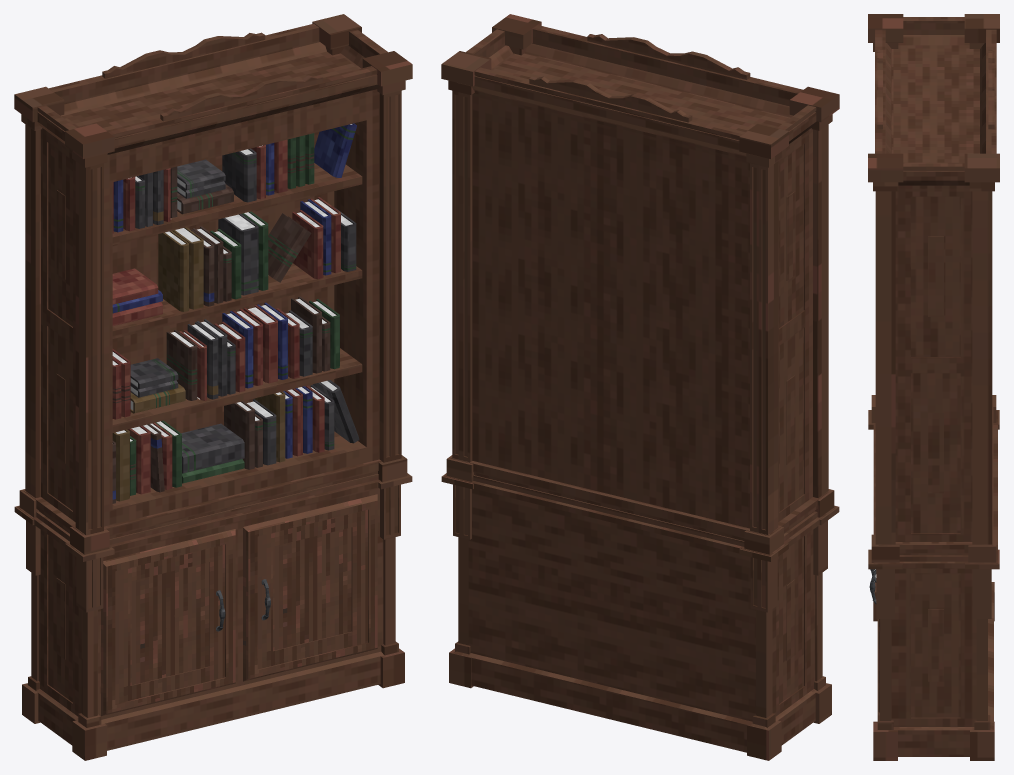
Rendered from bookcase.fbx.
3 renders of one model, left to right at view 1: azimuth 30°, elevation 25°; view 2: azimuth 150°, elevation 25°; view 3: azimuth 270°, elevation 25°, orthographic. The views are drawn at different scales.
Parts seen in each view (by area): view 1: BookCase_Single, BookCase_RightDoor, BookCase_LeftDoor; view 2: BookCase_Single; view 3: BookCase_Single, BookCase_RightDoor.
Boxes of the visible parts, x1,y1,x2,y2 form: BookCase_Single: [14, 14, 412, 760]; BookCase_RightDoor: [243, 494, 377, 681]; BookCase_LeftDoor: [101, 529, 235, 716]; BookCase_Single: [441, 14, 839, 760]; BookCase_Single: [868, 14, 999, 760]; BookCase_RightDoor: [869, 569, 879, 712].
Size of the model in its own units: 136 by 249 by 48.98.
